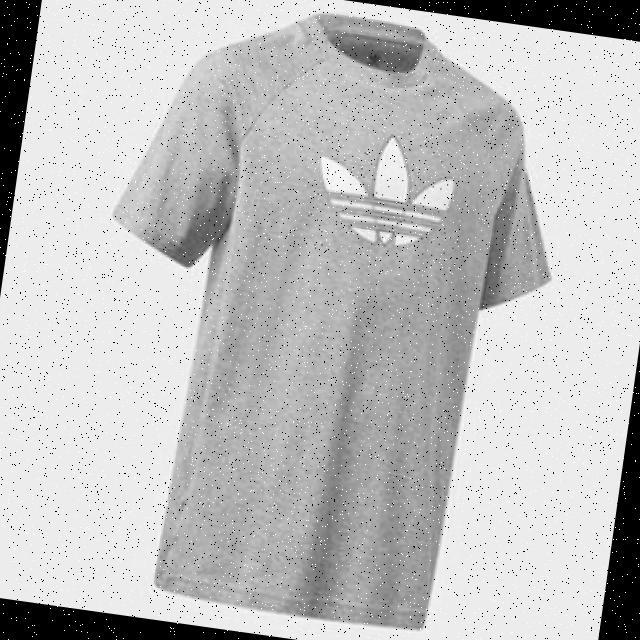Adidas: (302, 119, 473, 269)
